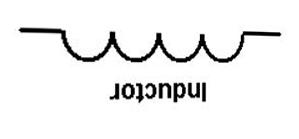inductor: (39, 13, 258, 71)
